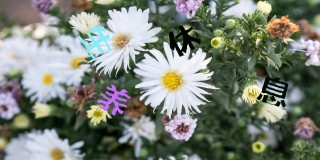修: (167, 24, 201, 57)
养: (95, 84, 129, 115)
息: (256, 76, 288, 108)
生: (78, 25, 112, 59)
